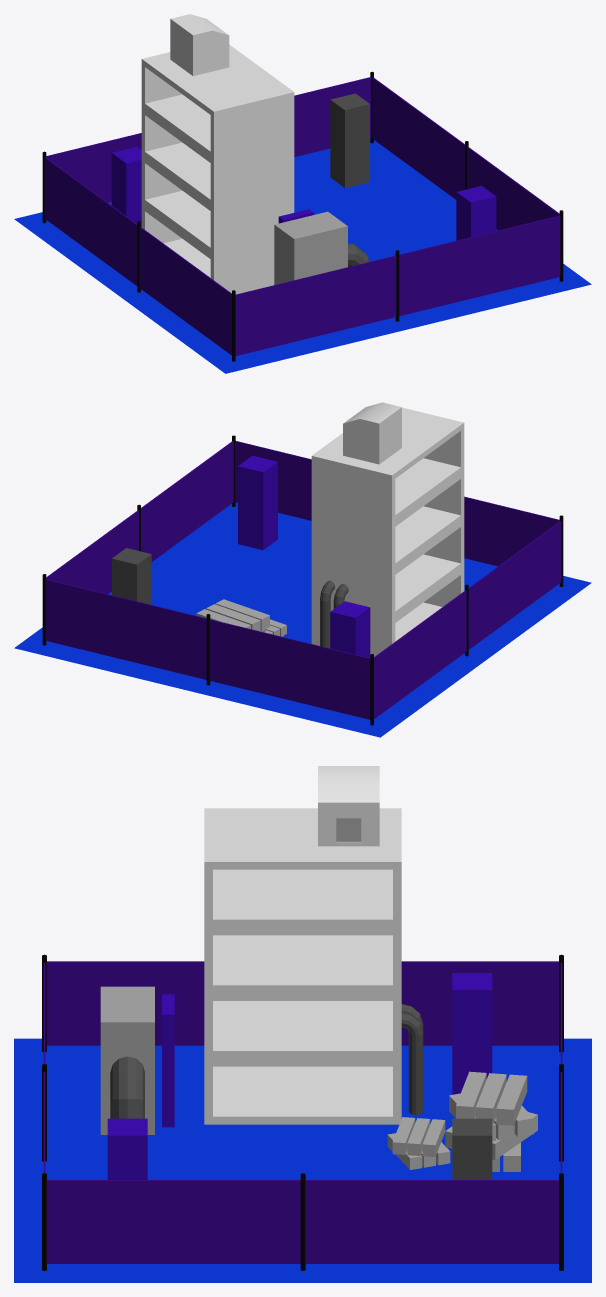
Rendered from 44_blue.fbx.
3 views of the same model, one above another, from view 1: azimuth 30°, elevation 25°; view 2: azimuth 150°, elevation 25°; view 3: azimuth 270°, elevation 25° (orthographic). The views are drawn at different scales.
Parts seen in each view (by area): view 1: pCube229, pPlane2, pCube227, pCube228, pCube222, pCube217, pCube225, pCube233, pCube239, pCube226, pCube241, pCube224 (+3 smaller); view 2: pCube229, pPlane2, pCube223, pCube224, pCube217, pCube222, pCube226, pCube228, pCube238, pCube225, pCube241, pCube227 (+5 smaller); view 3: pCube229, pPlane2, pCube225, pCube226, pCube222, pCube217, pCube233, pCube241, pCube240, pCube239, pCube238, pCylinder44 (+5 smaller).
Part boxes in pixels (left/top/right/bottom): pCube229: left=141, top=44, right=294, bottom=294; pPlane2: left=14, top=139, right=591, bottom=373; pCube227: left=399, top=215, right=560, bottom=316; pCube228: left=235, top=255, right=396, bottom=355; pCube222: left=44, top=157, right=137, bottom=285; pCube217: left=139, top=226, right=231, bottom=355; pCube225: left=372, top=77, right=464, bottom=199; pCube233: left=274, top=211, right=347, bottom=284; pCube239: left=330, top=93, right=369, bottom=187; pCube226: left=467, top=147, right=559, bottom=230; pCube241: left=170, top=14, right=229, bottom=75; pCube224: left=294, top=77, right=370, bottom=156; pCube229: left=311, top=407, right=464, bottom=656; pPlane2: left=14, top=502, right=591, bottom=737; pCube223: left=209, top=619, right=370, bottom=719; pCube224: left=45, top=579, right=206, bottom=679; pCube217: left=468, top=521, right=561, bottom=649; pCube222: left=374, top=590, right=466, bottom=718; pCube226: left=141, top=441, right=233, bottom=561; pCube228: left=464, top=496, right=559, bottom=566; pCube238: left=238, top=455, right=277, bottom=549; pCube225: left=46, top=510, right=138, bottom=594; pCube241: left=343, top=402, right=401, bottom=464; pCube227: left=235, top=440, right=311, bottom=520; pCube229: left=204, top=808, right=401, bottom=1124; pPlane2: left=14, top=1038, right=591, bottom=1282; pCube225: left=305, top=1180, right=559, bottom=1263; pCube226: left=46, top=1180, right=300, bottom=1263; pCube222: left=401, top=961, right=559, bottom=1045; pCube217: left=46, top=961, right=204, bottom=1045; pCube233: left=100, top=986, right=154, bottom=1134; pCube241: left=318, top=766, right=379, bottom=846; pCube240: left=452, top=973, right=492, bottom=1094; pCube239: left=452, top=1118, right=492, bottom=1179; pCube238: left=107, top=1118, right=147, bottom=1179; pCylinder44: left=110, top=1056, right=144, bottom=1118.
Bounding box in the file's own units: 4 × 2.48 × 4.
